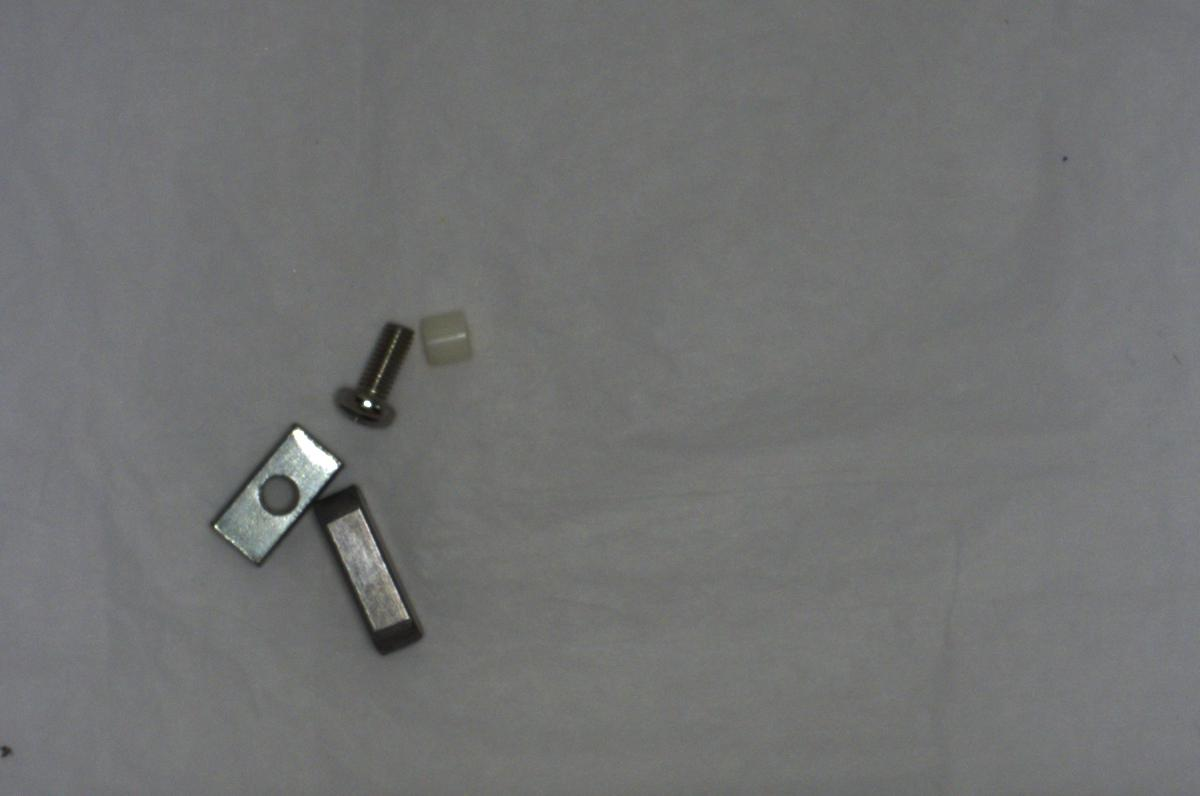Keybar: (311, 480, 432, 655)
Plastic cushion pillar: (414, 298, 478, 366)
Rectangular nut: (202, 418, 344, 560)
Round head screw: (330, 319, 412, 429)
